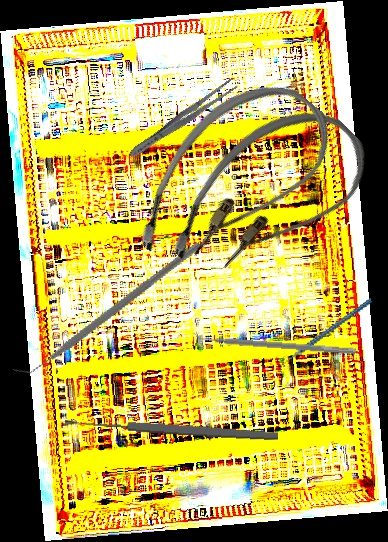Cannula: (115, 55, 349, 302), (152, 81, 384, 313)
Chopper: (9, 196, 204, 418), (265, 297, 385, 377)
Dressing Forceps: (125, 76, 240, 162)
Spatula Surgical: (192, 330, 357, 355)
Surgical Spoon: (64, 415, 279, 443)
